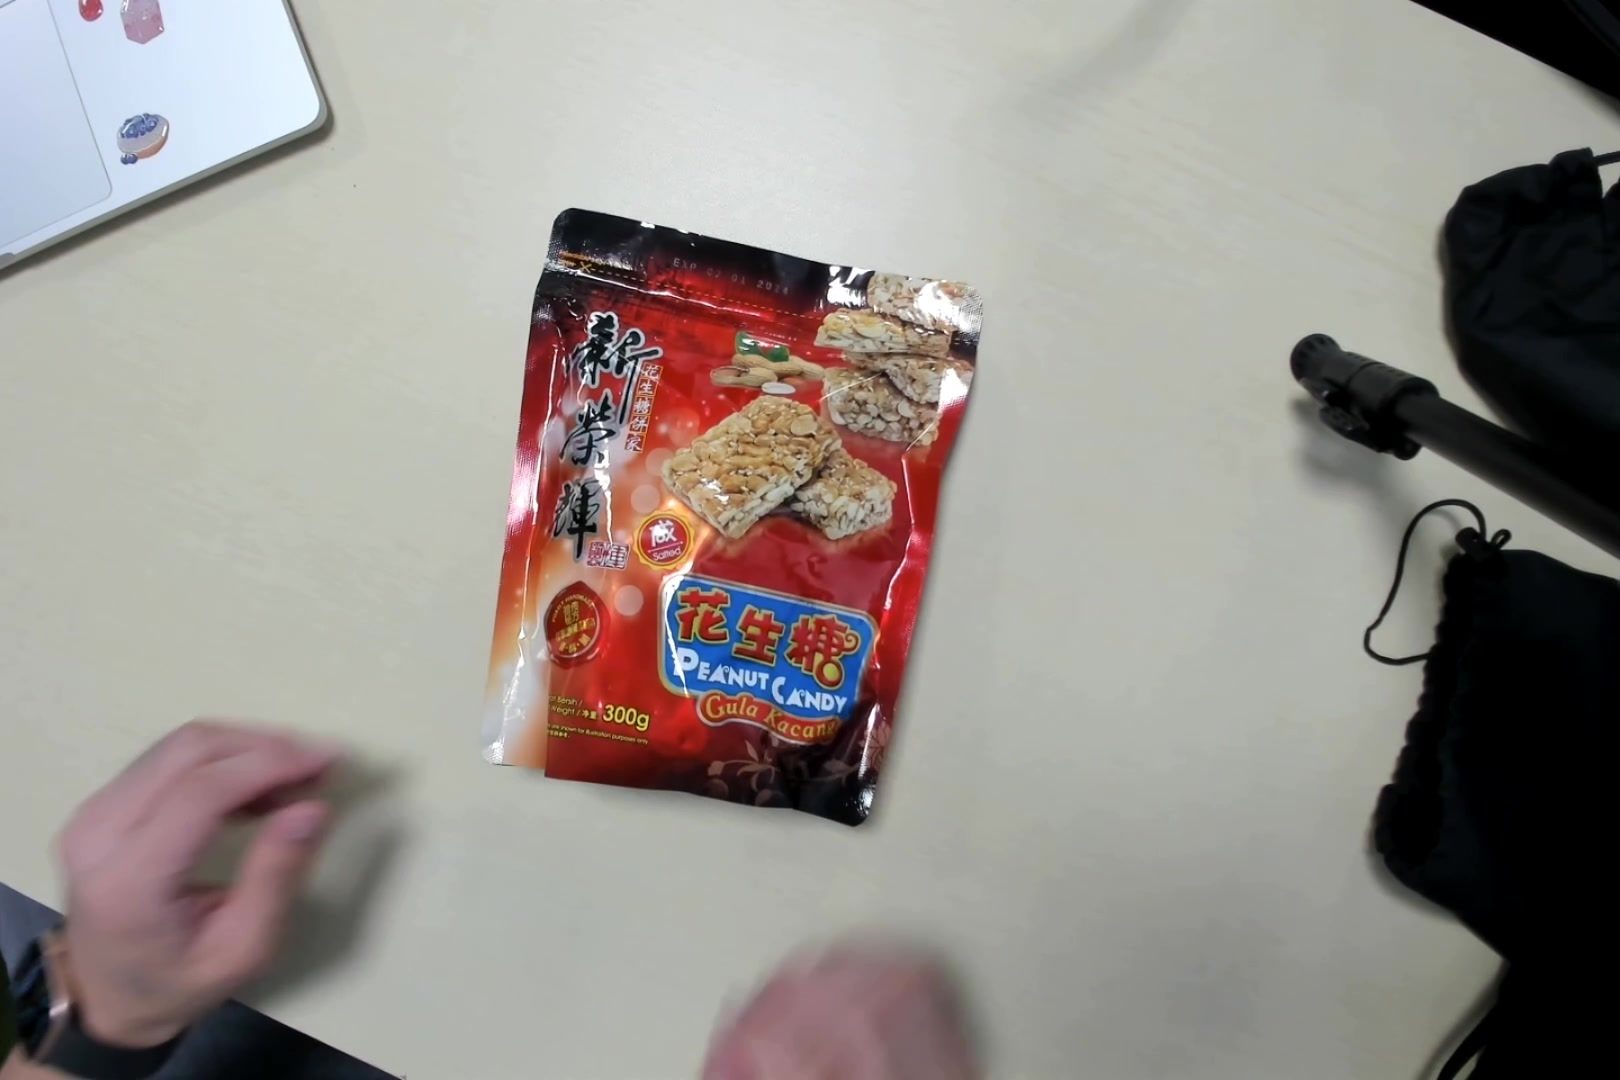SweetsChocolatesOthers_300-399g_NonHalal_NonHealthy: (485, 204, 978, 822)
